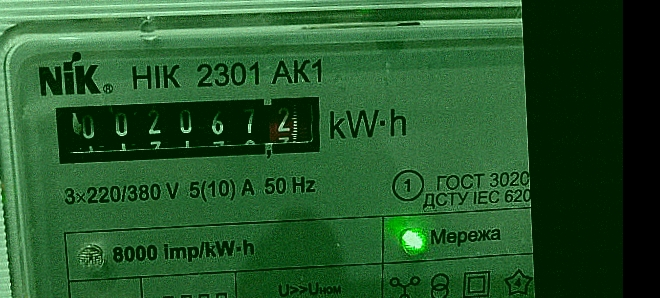0: (77, 111, 96, 140), (174, 104, 193, 133), (111, 107, 129, 137)
2: (273, 103, 292, 132), (144, 106, 162, 135)
6: (207, 106, 226, 135)
7: (240, 104, 257, 135)
screen: (40, 81, 336, 176)
